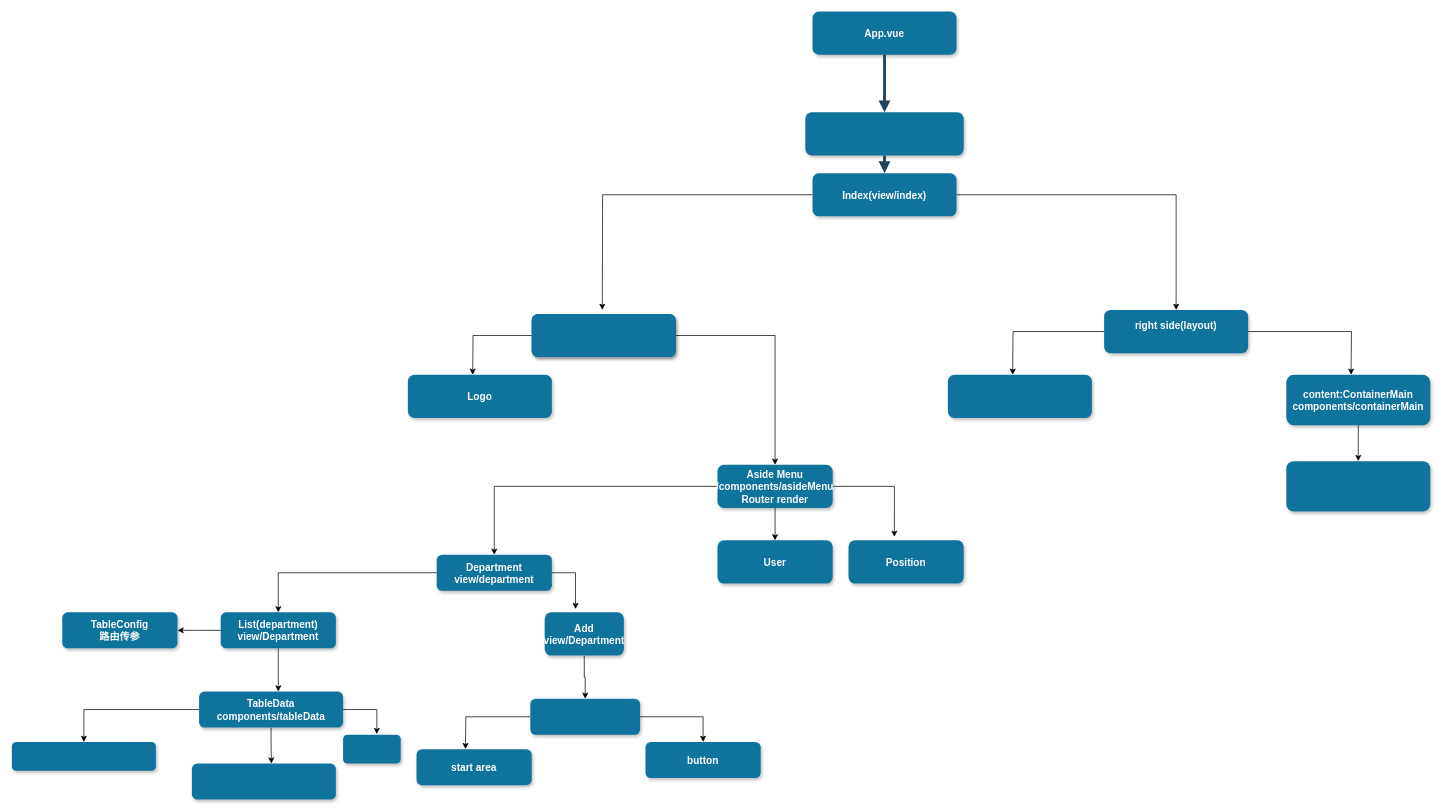
This 1442x811 diagram has some shape labels left out. Here are the shapes that lost their labels. From the top down, the centre of each, then its label:
At point (885, 134): "Login/register(view/login folder)".
At point (604, 336): "left side(Aside) :Views/index/ components/aside".
At point (1020, 397): "Head handle close or hide side bar".
At point (1358, 487): "components:moduler ./components".
At point (585, 717): "FormComponent components /form/index".
At point (84, 757): "FormSearch components/tableData".
At point (372, 750): "Modal".
At point (264, 782): "TableData2 ./TableData2".
